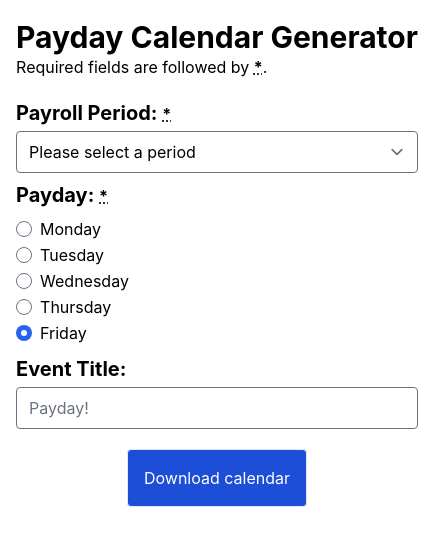
PaydayCalendarGenerator › should render semi-monthly disclaimer
The image size is (435, 534).
Select "Semi-monthly" in the dropdown labelled "Payroll Period" at (217, 152), box [16,131,418,173]
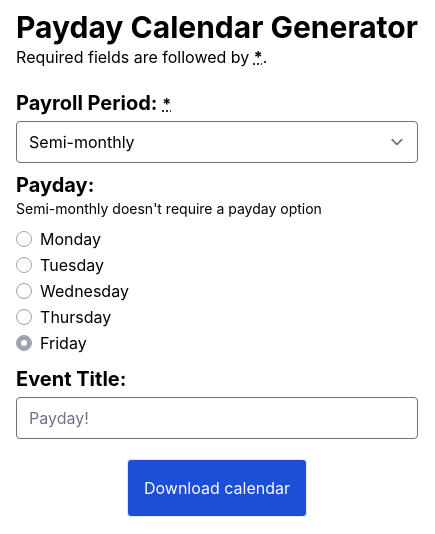
Check: the text "Semi-monthly doesn't require a payday option" is shown, box [16,200,322,217]
Check: the radio button with aria-label "monday payday" is disabled, box [16,231,32,247]
Check: the radio button with aria-label "tuesday payday" is disabled, box [16,257,32,273]
